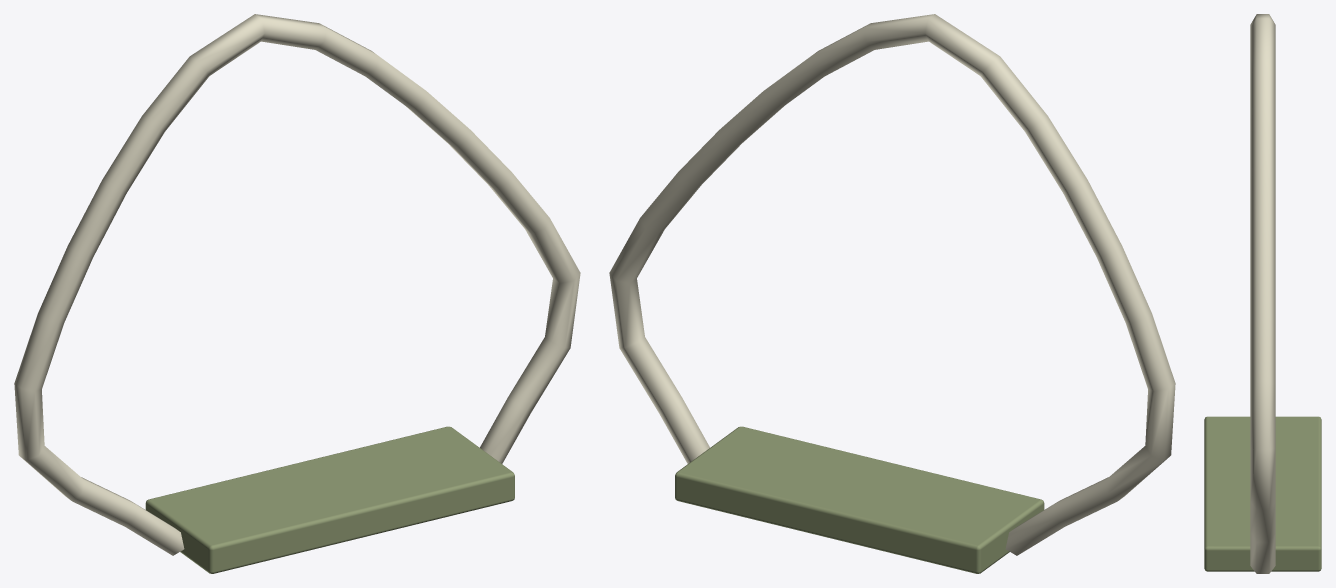
File: primitive-crafting-workshop-looped-cord-sling-2143628c__21557.glb
3 views of the same model, side by side, from view 1: azimuth 30°, elevation 25°; view 2: azimuth 150°, elevation 25°; view 3: azimuth 270°, elevation 25° (orthographic). The views are drawn at different scales.
Parts seen in each view (by area): view 1: looped-cord-sling; view 2: looped-cord-sling; view 3: looped-cord-sling.
Boxes of the visible parts, <box> form: looped-cord-sling: <box>14,14,580,573</box>; looped-cord-sling: <box>609,14,1175,573</box>; looped-cord-sling: <box>1204,14,1321,573</box>.
Size of the model in its own units: 0.3653 by 0.3219 by 0.075.
